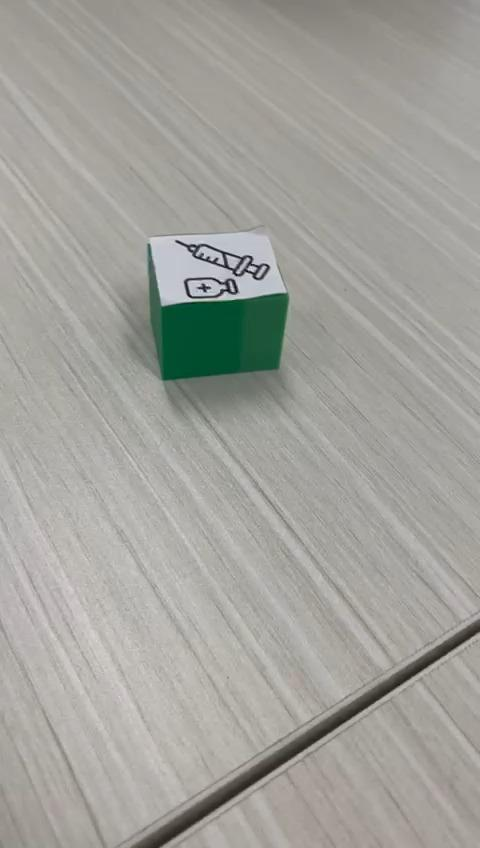antiseptic cream: (145, 225, 289, 381)
